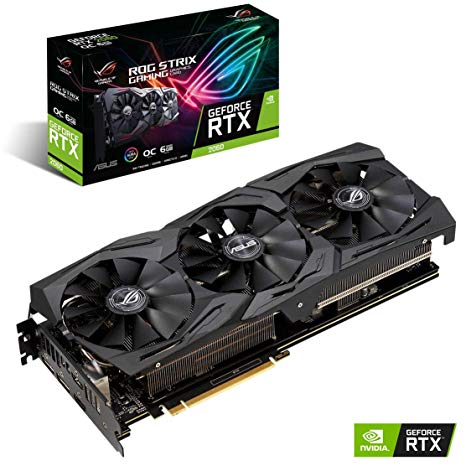PCIE Graphics Card: (11, 142, 461, 413)
